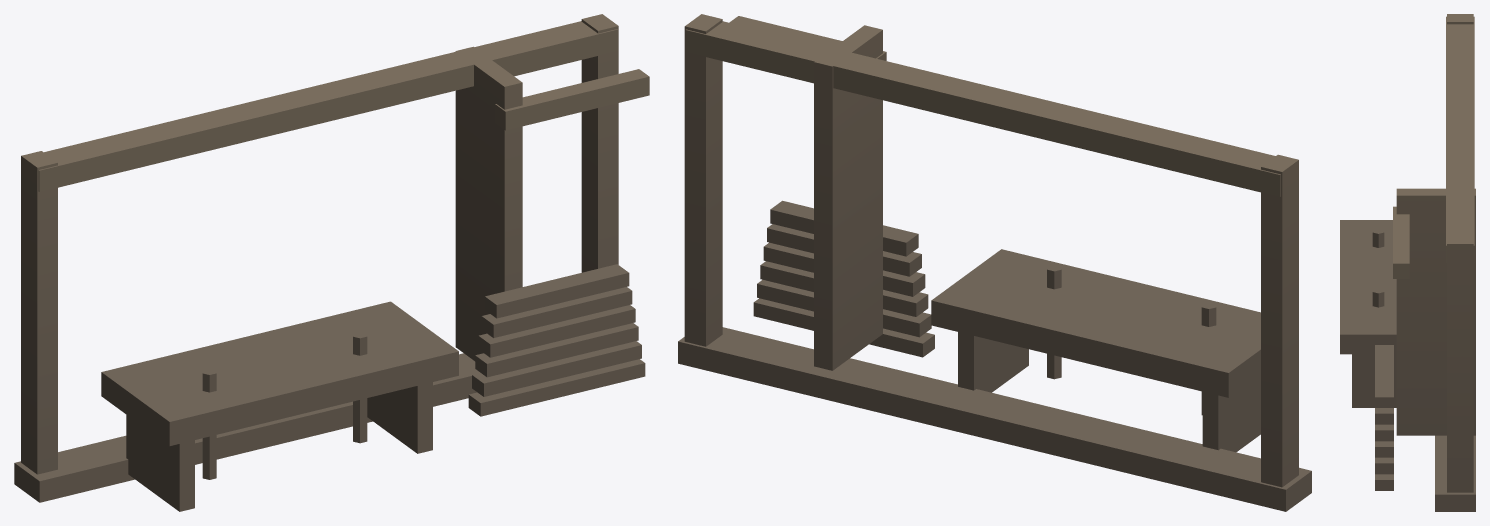
File: facade_workshop.glb
3 renders of one model, left to right at view 1: azimuth 30°, elevation 25°; view 2: azimuth 150°, elevation 25°; view 3: azimuth 270°, elevation 25°, orthographic. The views are drawn at different scales.
Parts seen in each view (by area): view 1: facade_workshop; view 2: facade_workshop; view 3: facade_workshop.
Boxes of the visible parts, left/top/right/bottom form: facade_workshop: left=14, top=14, right=649, bottom=511; facade_workshop: left=678, top=14, right=1311, bottom=511; facade_workshop: left=1340, top=14, right=1475, bottom=511.
Size of the model in its own units: 4.6 by 2.44 by 1.13.
